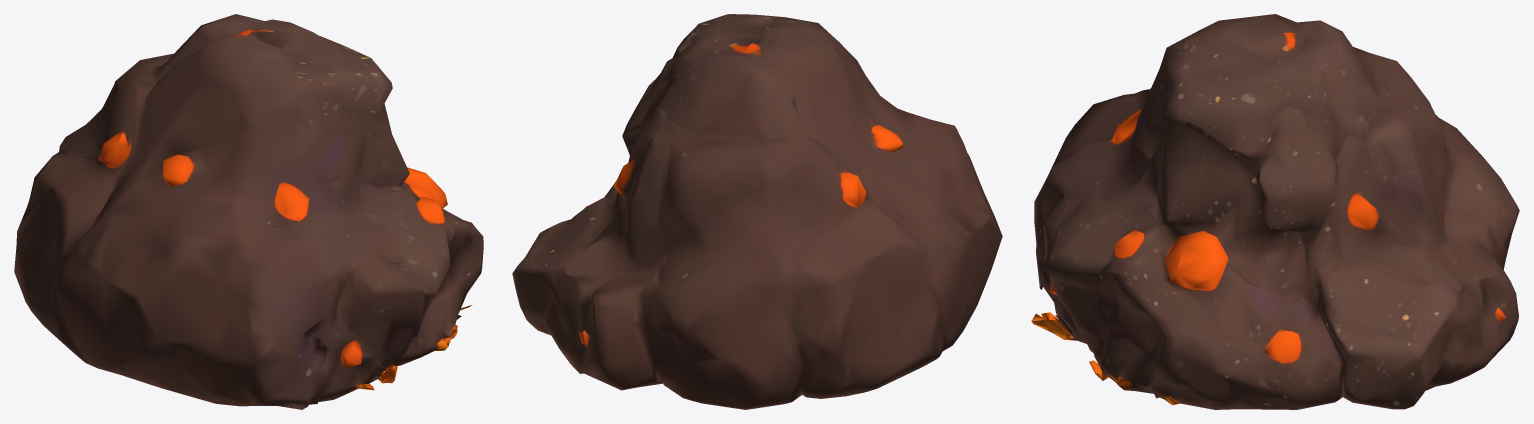
Rendered from bakir.glb.
3 renders of one model, left to right at view 1: azimuth 30°, elevation 25°; view 2: azimuth 150°, elevation 25°; view 3: azimuth 270°, elevation 25°, orthographic. The views are drawn at different scales.
Parts seen in each view (by area): view 1: tripo_node_08acb5ee-1b9a-41f1-b801-a783e556079c; view 2: tripo_node_08acb5ee-1b9a-41f1-b801-a783e556079c; view 3: tripo_node_08acb5ee-1b9a-41f1-b801-a783e556079c.
Boxes of the visible parts, box(x1,y1,x2,y2) form: tripo_node_08acb5ee-1b9a-41f1-b801-a783e556079c: box(14, 14, 483, 409); tripo_node_08acb5ee-1b9a-41f1-b801-a783e556079c: box(512, 14, 1002, 409); tripo_node_08acb5ee-1b9a-41f1-b801-a783e556079c: box(1031, 14, 1519, 409).
Bounding box in the file's own units: 1.83 × 1.3 × 1.94.
Materials: 1 (1 with a texture image).
